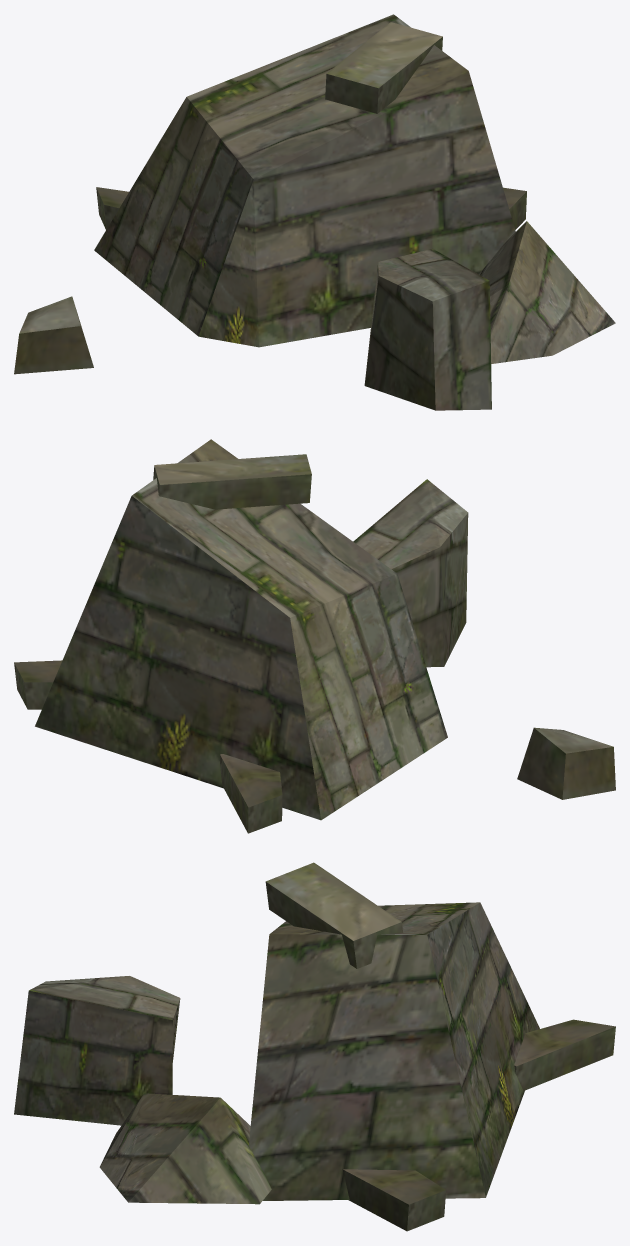
File: baobian_xy_40.FBX
3 renders of one model, top to bottom at view 1: azimuth 30°, elevation 25°; view 2: azimuth 150°, elevation 25°; view 3: azimuth 270°, elevation 25°, orthographic. The views are drawn at different scales.
Parts seen in each view (by area): view 1: baobian_xy_40; view 2: baobian_xy_40; view 3: baobian_xy_40.
Boxes of the visible parts, bbox=[...] form: baobian_xy_40: bbox=[14, 14, 615, 410]; baobian_xy_40: bbox=[14, 439, 615, 833]; baobian_xy_40: bbox=[14, 862, 615, 1231].
Size of what is drawn, in the model's own units: 597 by 251 by 546.
